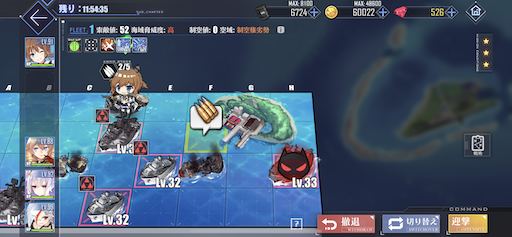boss: (270, 144, 319, 189)
lv3: (78, 176, 130, 226), (94, 108, 146, 154), (133, 140, 178, 187)
